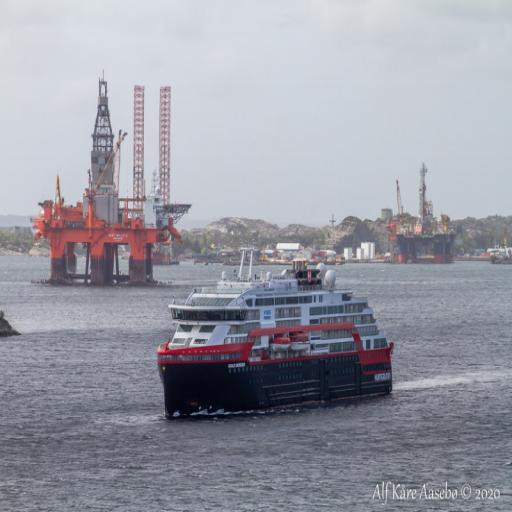cruises: (161, 248, 402, 418)
